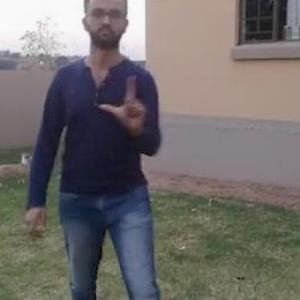land_hand: (102, 70, 162, 138)
